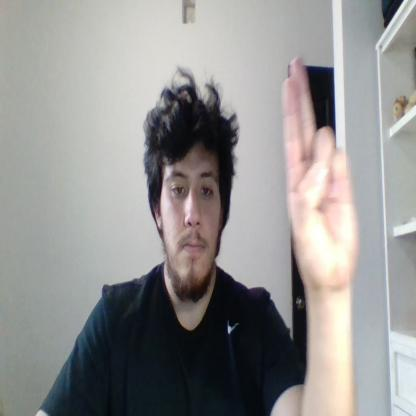U: (280, 58, 359, 288)
